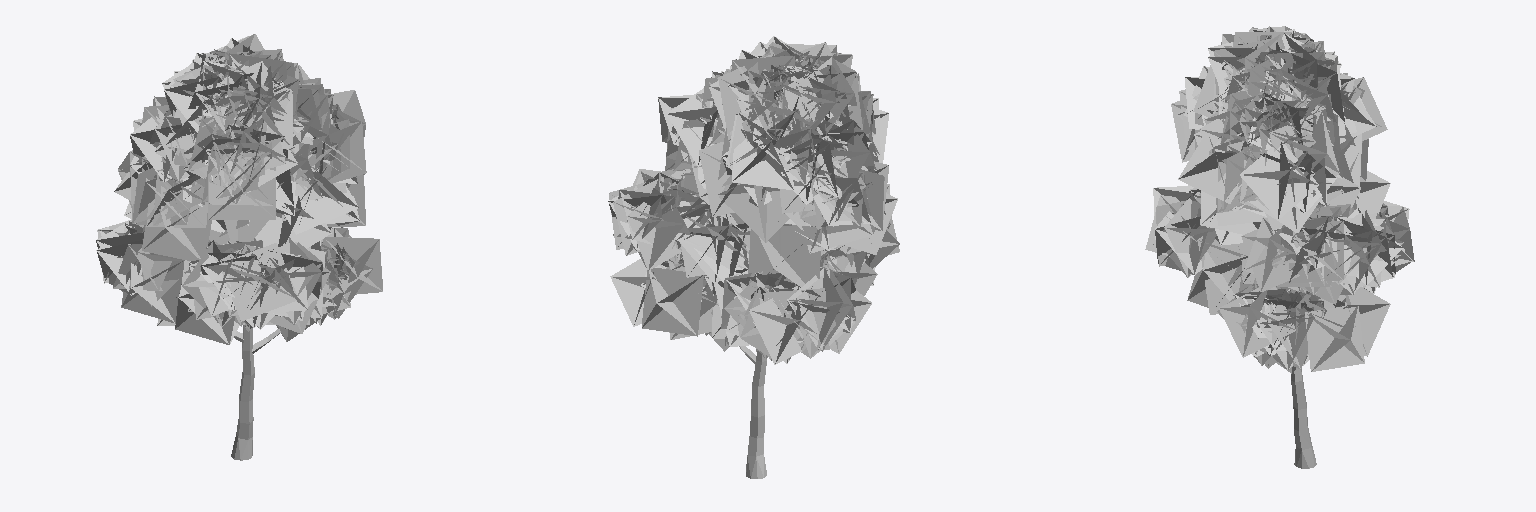
The model's file is Tree7.obj.
3 renders of one model, left to right at view 1: azimuth 30°, elevation 25°; view 2: azimuth 150°, elevation 25°; view 3: azimuth 270°, elevation 25°, orthographic.
Visible parts, largest first — view 1: tree; view 2: tree; view 3: tree.
Boxes of the visible parts, <box> form: tree: <box>96,34,382,460</box>; tree: <box>608,36,899,478</box>; tree: <box>1145,26,1414,468</box>.
Bounding box in the file's own units: 15.06 × 24.58 × 14.36.